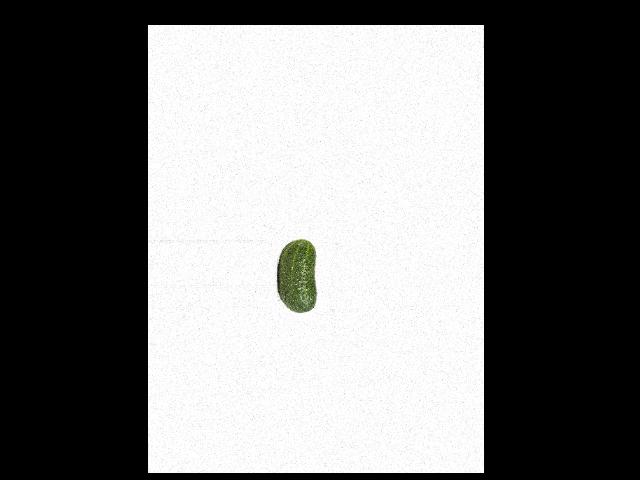cucumber: (277, 239, 315, 313)
